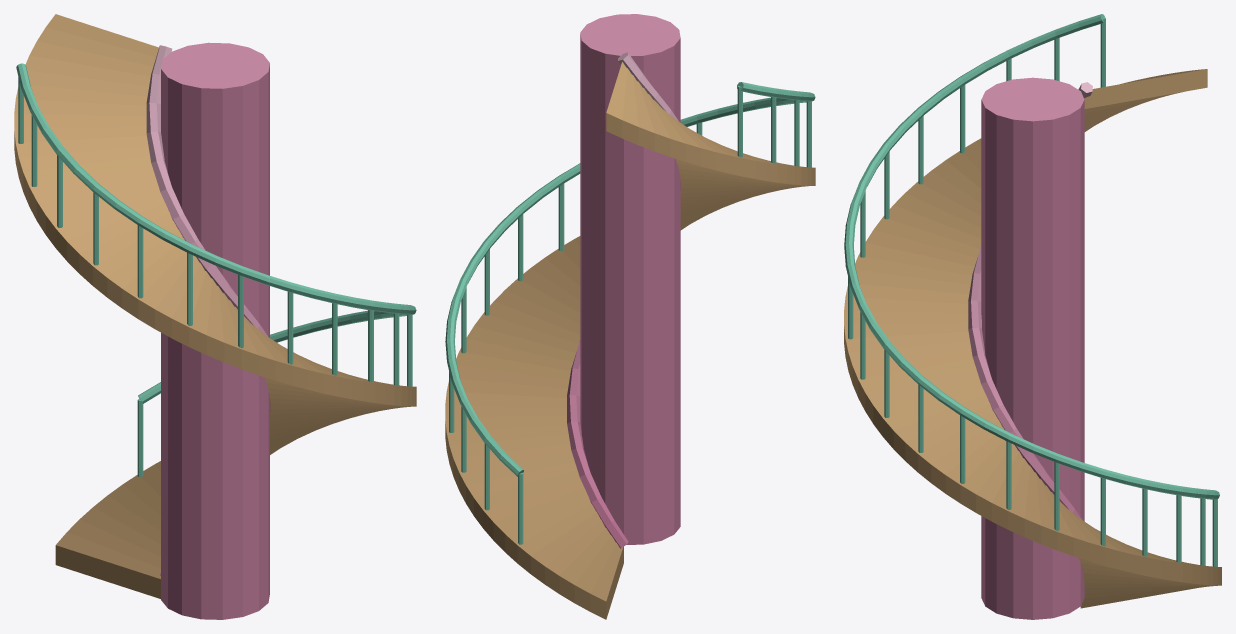
The model's file is goo_jar_stair@candy.fbx.
3 renders of one model, left to right at view 1: azimuth 30°, elevation 25°; view 2: azimuth 150°, elevation 25°; view 3: azimuth 270°, elevation 25°, orthographic. The views are drawn at different scales.
Visible parts, largest first — view 1: goo_jar_stair; view 2: goo_jar_stair; view 3: goo_jar_stair.
Boxes of the visible parts, x1,y1,x2,y2 form: goo_jar_stair: (14, 14, 416, 619); goo_jar_stair: (445, 14, 815, 619); goo_jar_stair: (844, 14, 1221, 619).
Size of the model in its own units: 10.99 by 17.03 by 10.99.
